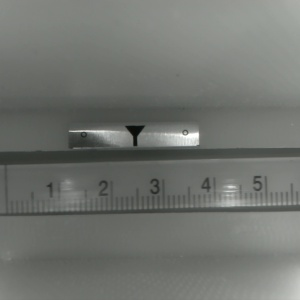1: (42, 184, 50, 199)
2: (97, 179, 108, 196)
3: (149, 178, 159, 194)
4: (199, 177, 211, 192)
5: (252, 176, 262, 191)
finger: (123, 126, 145, 146)
